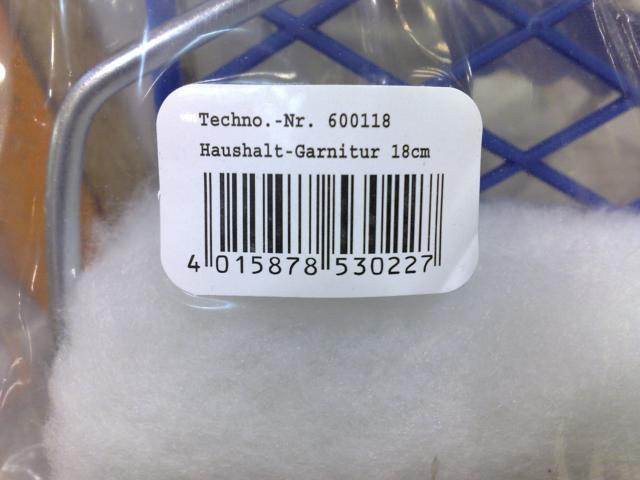Barcode: (180, 164, 458, 283)
